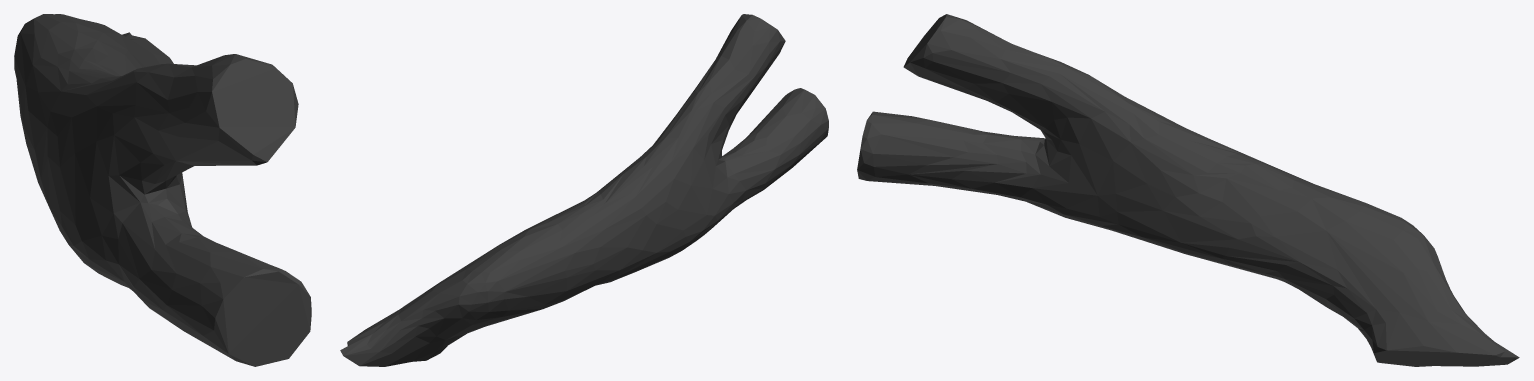
Rendered from Renal_vv_R.glb.
The picture shows the model from 3 angles, left to right: view 1: azimuth 30°, elevation 25°; view 2: azimuth 150°, elevation 25°; view 3: azimuth 270°, elevation 25°; orthographic projection. The views are drawn at different scales.
Visible parts, largest first — view 1: Renal_vv_R; view 2: Renal_vv_R; view 3: Renal_vv_R.
Boxes of the visible parts, <box> form: Renal_vv_R: <box>14,14,311,366</box>; Renal_vv_R: <box>340,14,828,366</box>; Renal_vv_R: <box>857,14,1519,366</box>.
Size of the model in its own units: 0.1541 by 0.1547 by 0.3371.
1 material, 1 textured.
